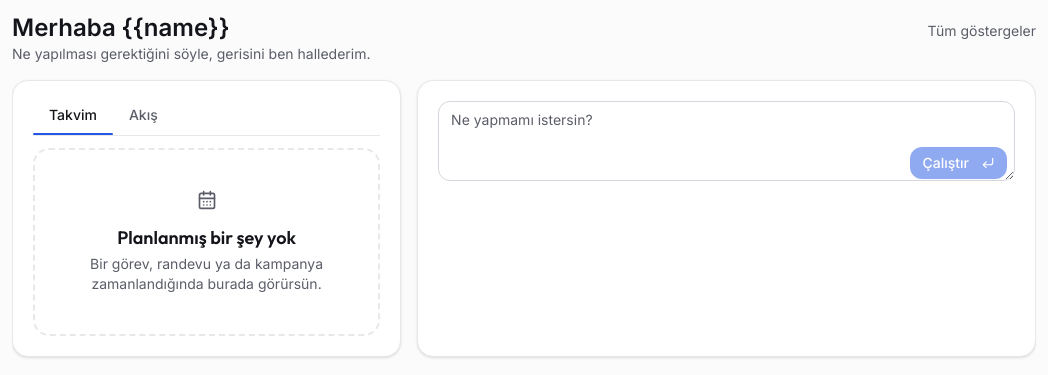
Test case: CommandCenterPage › shows the agent flow only inside the left column, never twice
The image size is (1048, 375).
Expected: the text "kampanya kur" is not shown
Click the tab "Akış".
click(143, 116)  # box top-left (113, 97), bottom-right (174, 135)
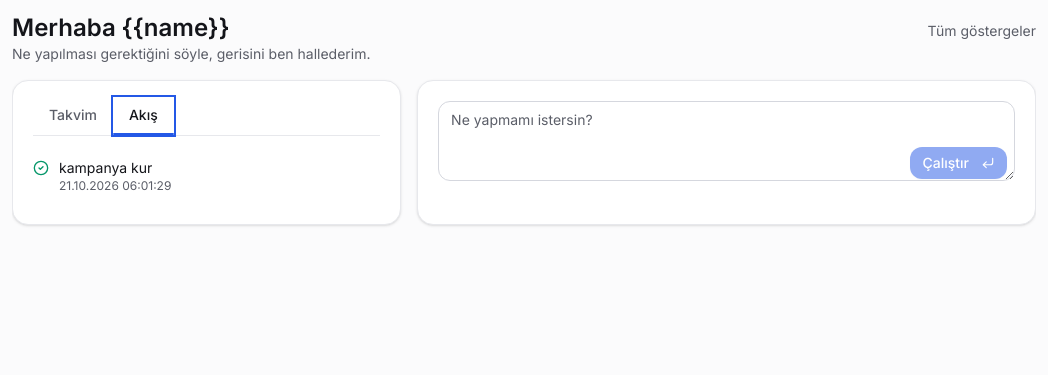
Expected: the text "kampanya kur" is shown once, top-left (59, 159), bottom-right (152, 176)
